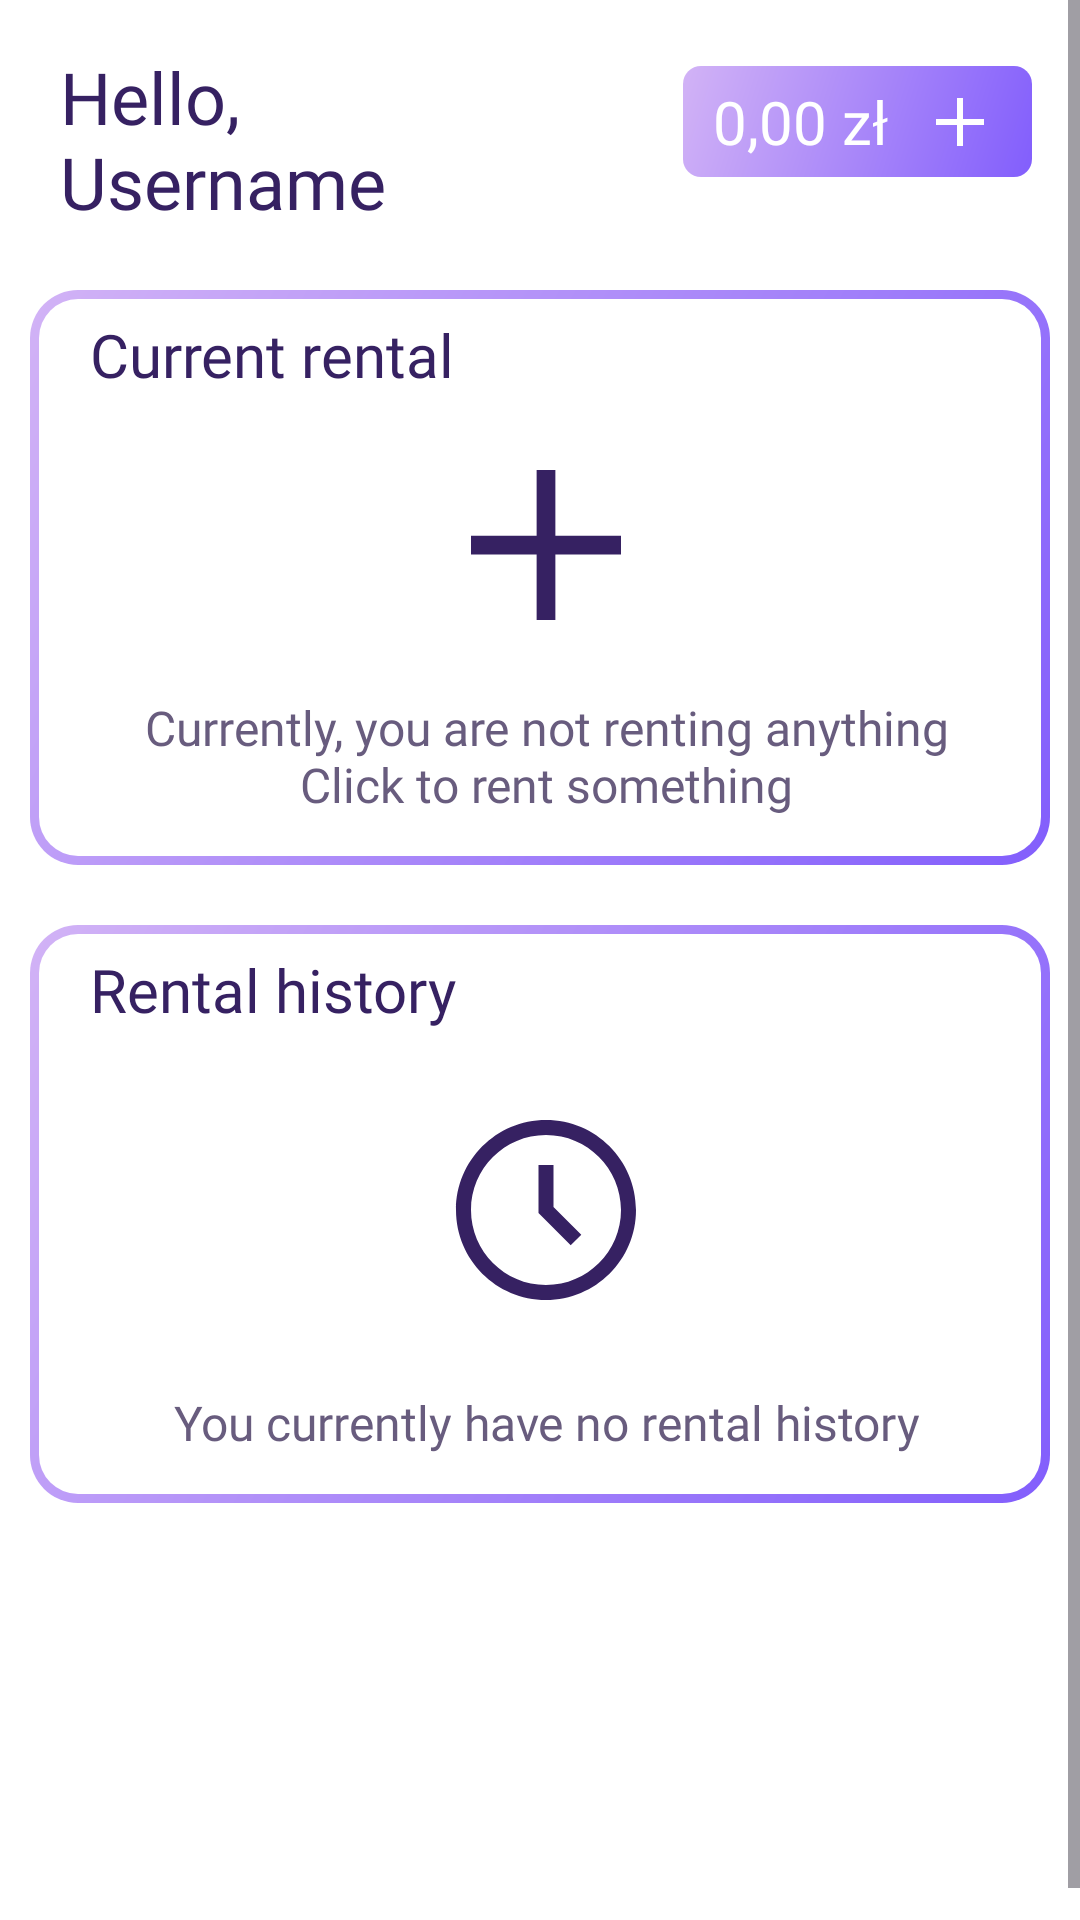

Named icons in this screenshot (1080×1920) and their centers, (x,y):
Clock Icon: (546,1210)
Plus Icon: (972,122), (546,545)
